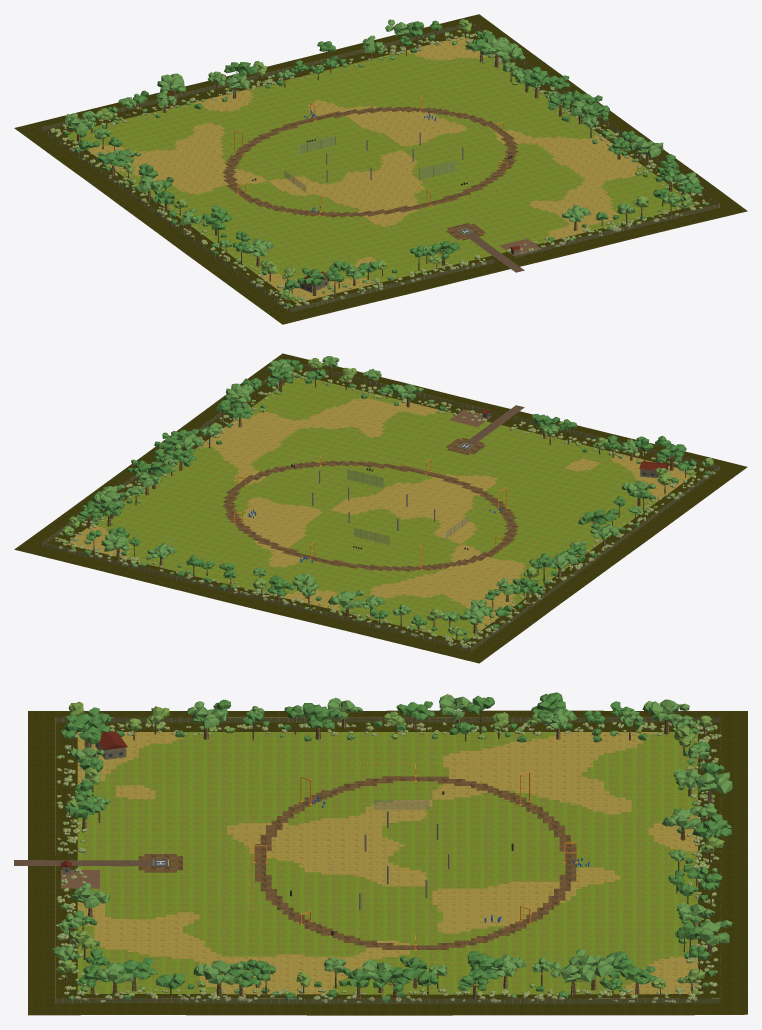
The picture shows the model from 3 angles, top to bottom: view 1: azimuth 30°, elevation 25°; view 2: azimuth 150°, elevation 25°; view 3: azimuth 270°, elevation 25°; orthographic projection. The views are drawn at different scales.
Visible parts, largest first — view 1: ground_field, fence_perimeter_chainlink, obstacle_net_fence_panels, fence_perimeter_posts; view 2: ground_field, fence_perimeter_chainlink, obstacle_net_fence_panels, fence_perimeter_posts; view 3: ground_field, fence_perimeter_chainlink, tree_edge_036, tree_edge_088, road_paving_entrance, fence_perimeter_top_rail, tree_edge_021, tree_edge_006, tree_edge_025, tree_edge_048, tree_edge_075, tree_edge_027 (+16 smaller).
Part boxes in pixels (x1,y1,x2,y2): ground_field: [14, 14, 747, 324]; fence_perimeter_chainlink: [42, 23, 719, 311]; obstacle_net_fence_panels: [285, 136, 454, 191]; fence_perimeter_posts: [42, 22, 719, 312]; ground_field: [14, 353, 747, 663]; fence_perimeter_chainlink: [42, 365, 719, 650]; obstacle_net_fence_panels: [348, 469, 466, 544]; fence_perimeter_posts: [42, 367, 719, 651]; ground_field: [28, 710, 747, 1015]; fence_perimeter_chainlink: [56, 717, 719, 1003]; tree_edge_036: [193, 960, 243, 996]; tree_edge_088: [684, 769, 732, 803]; road_paving_entrance: [14, 860, 152, 866]; fence_perimeter_top_rail: [55, 717, 719, 998]; tree_edge_021: [569, 949, 615, 990]; tree_edge_006: [642, 699, 689, 734]; tree_edge_025: [302, 703, 340, 739]; tree_edge_048: [550, 962, 595, 995]; tree_edge_075: [373, 967, 417, 1000]; tree_edge_027: [186, 701, 226, 739].
Size of the model in its own units: 260 by 16.17 by 265.
27 materials, 14 textured.
